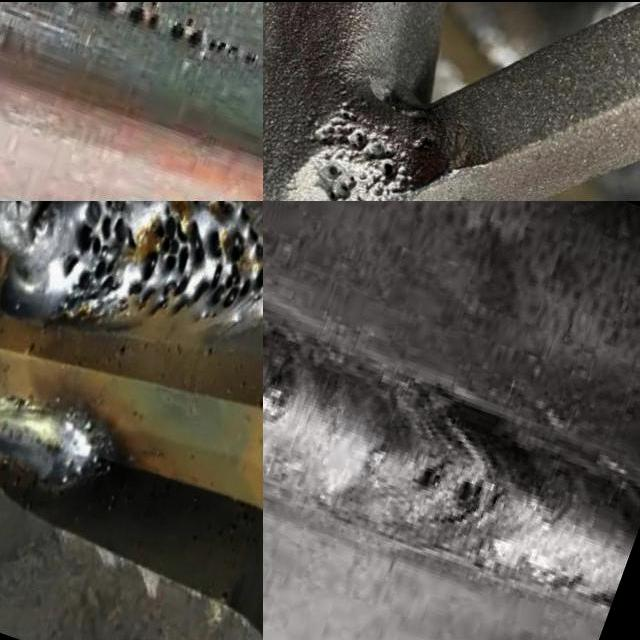defect: (41, 199, 263, 327), (319, 92, 406, 194), (165, 12, 263, 66), (451, 474, 510, 526), (412, 455, 457, 504), (323, 160, 367, 199)
